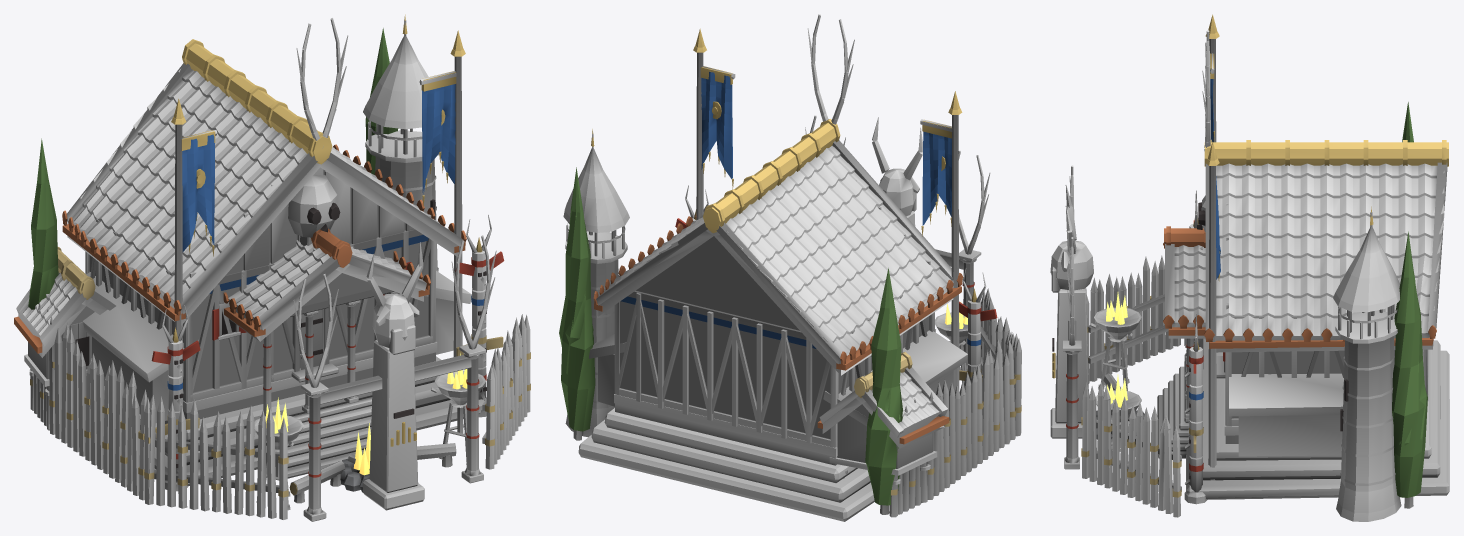
File: arcadia-hall-l4.glb
3 views of the same model, side by side, from view 1: azimuth 30°, elevation 25°; view 2: azimuth 150°, elevation 25°; view 3: azimuth 270°, elevation 25° (orthographic). The views are drawn at different scales.
Parts seen in each view (by area): view 1: arcadia-hall-l4; view 2: arcadia-hall-l4; view 3: arcadia-hall-l4.
Part boxes in pixels (bbox=[...]): arcadia-hall-l4: bbox=[14, 14, 530, 521]; arcadia-hall-l4: bbox=[559, 14, 1021, 521]; arcadia-hall-l4: bbox=[1050, 14, 1449, 521].
Bounding box in the file's own units: 1.33 × 1.32 × 1.2.
